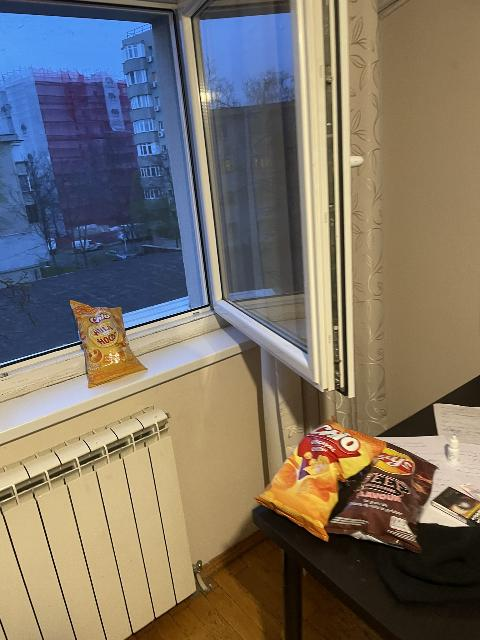Chio Cascaval 125g: (252, 416, 384, 541)
Chio Hula Hoops Cheese 70g: (70, 302, 149, 386)
Lays Beef Grilled Ribs 125g: (324, 438, 437, 552)
